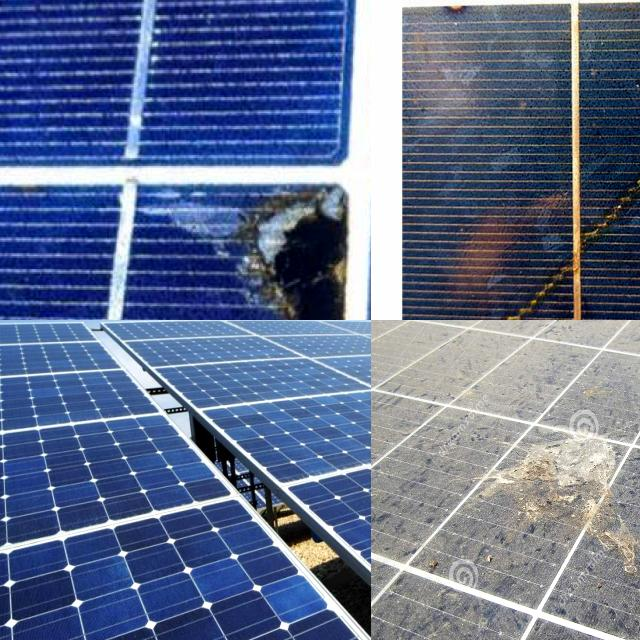bird: (486, 421, 640, 574)
crack: (0, 414, 233, 574), (5, 550, 329, 640), (198, 359, 371, 511)
shadow: (437, 0, 640, 320), (195, 175, 361, 320)
